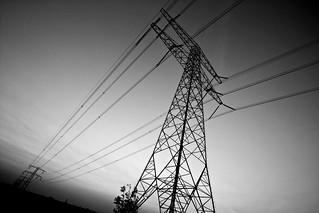power_tower: (139, 6, 223, 213)
